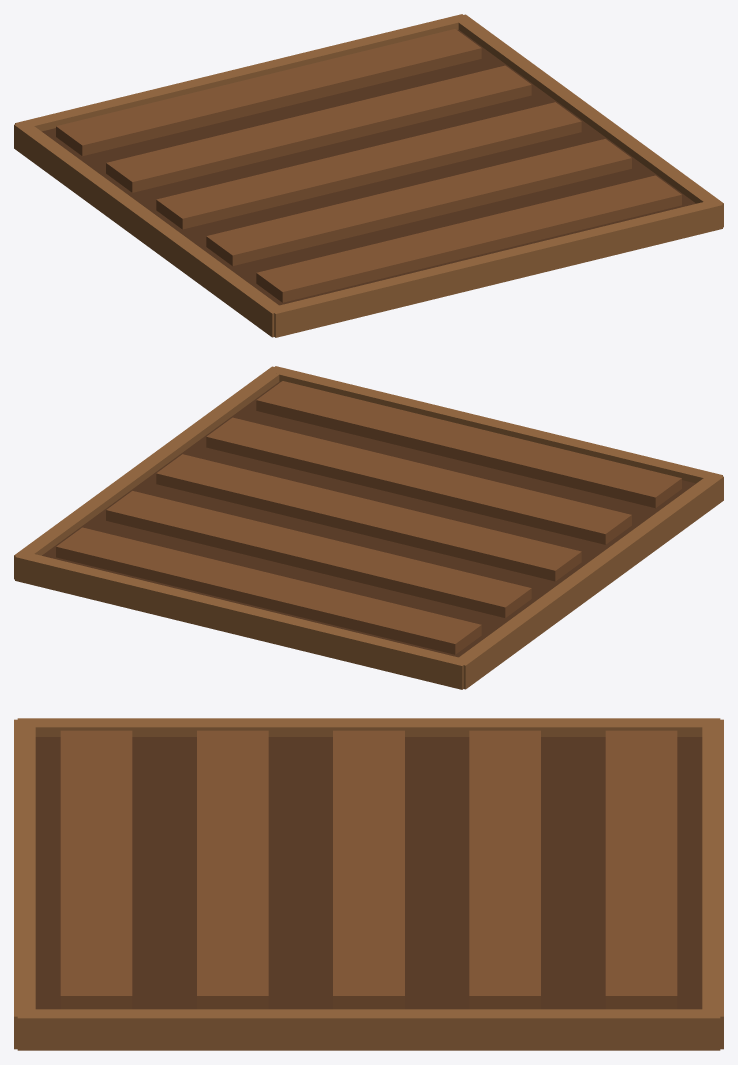
File: farm_plot.glb
3 views of the same model, one above another, from view 1: azimuth 30°, elevation 25°; view 2: azimuth 150°, elevation 25°; view 3: azimuth 270°, elevation 25° (orthographic). The views are drawn at different scales.
Visible parts, largest first — view 1: soil.001, plank, soil; view 2: soil.001, plank, soil; view 3: soil.001, soil, plank.
Boxes of the visible parts, x1,y1,x2,y2 form: soil.001: (56,29,681,302); plank: (14,14,723,337); soil: (42,30,695,305); soil.001: (56,381,681,654); plank: (14,366,723,689); soil: (42,382,695,657); soil.001: (60,730,677,1009); soil: (35,737,702,1009); plank: (14,718,723,1050).
Bounding box in the file's own units: 1.98 × 0.115 × 1.98.
